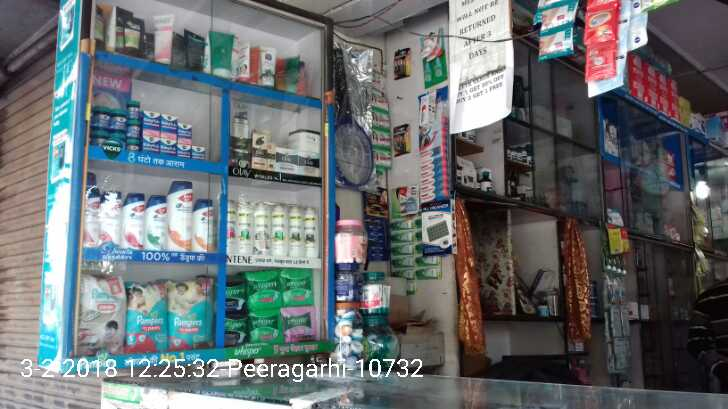vicks: (91, 88, 207, 161)
